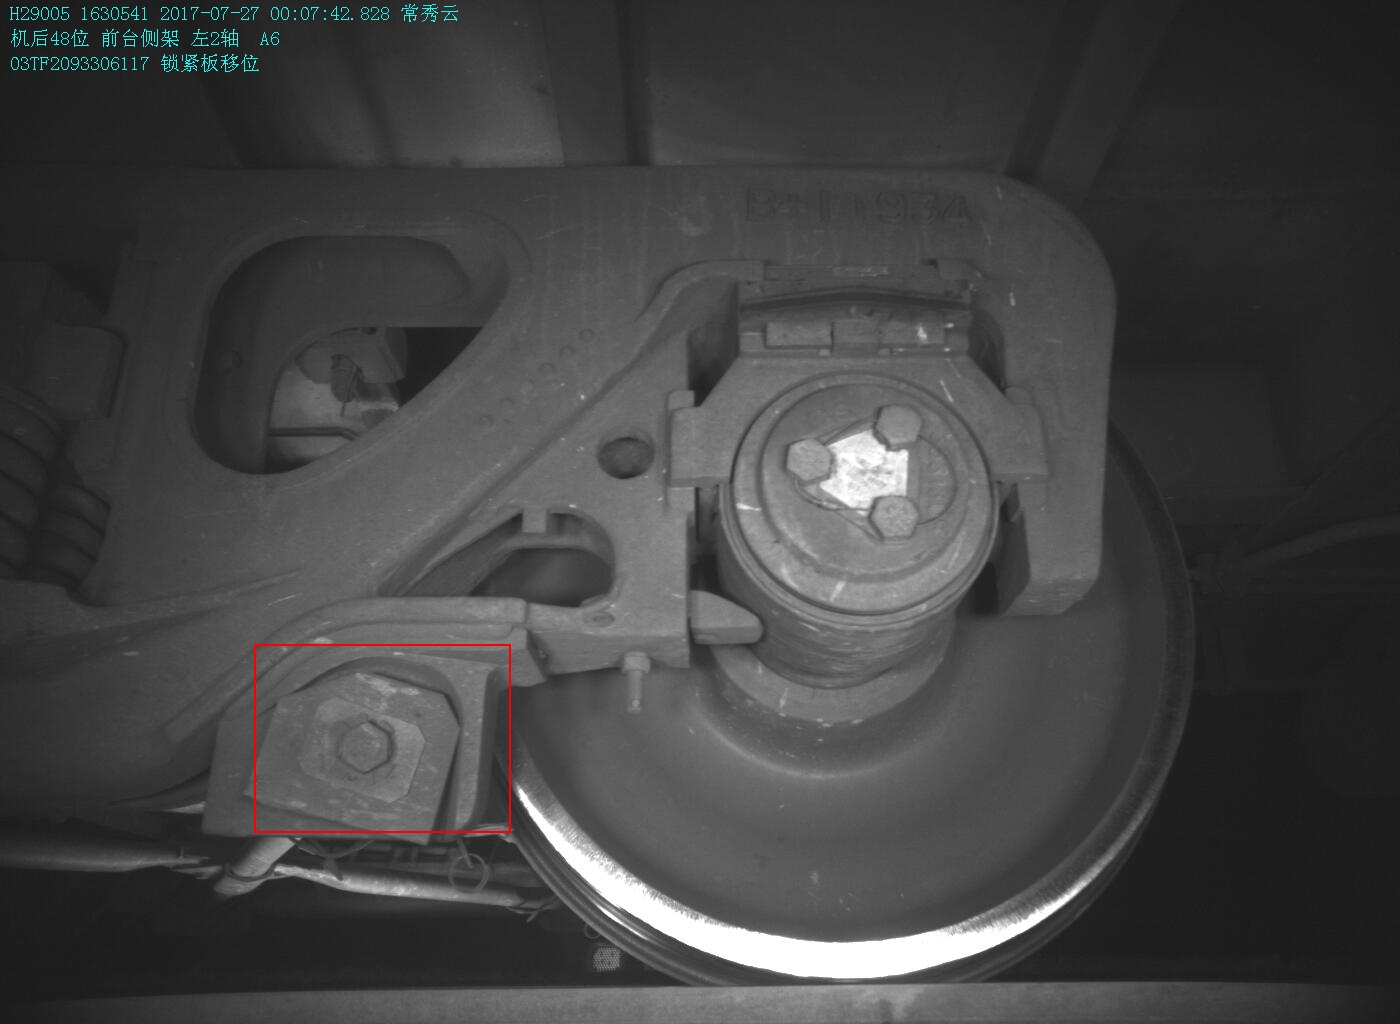Locking plate: (202, 654, 487, 846)
